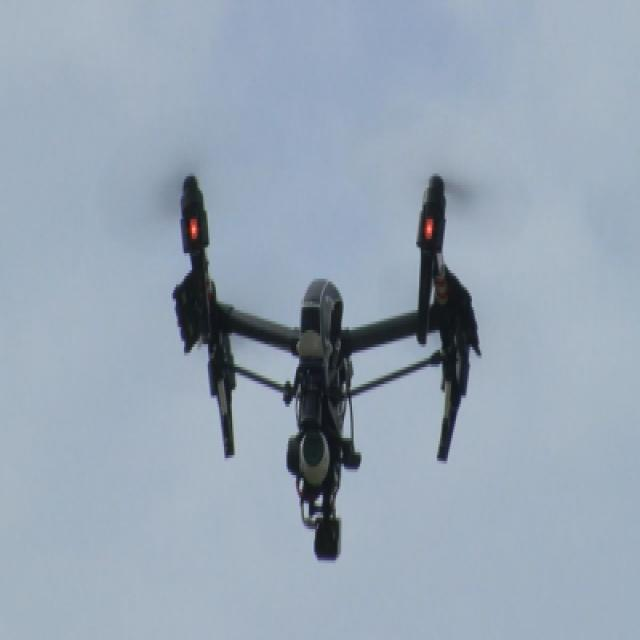drones: (129, 132, 491, 574)
